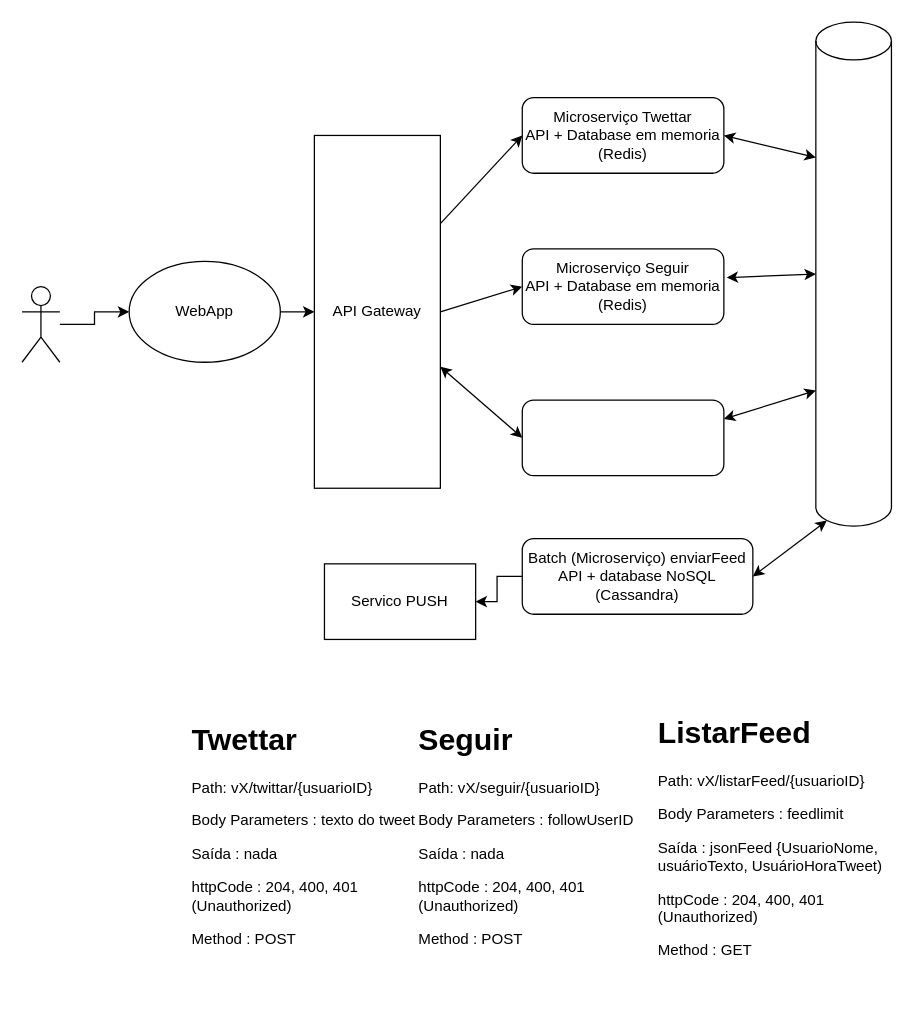
This 914x1027 diagram has some shape labels left out. The shapes that lost their labels are listed below. From the top down, each one's centre as x and y in pixels, then its label:
At [853,273]: "Event Bus (Pub/Sub Channels) - Kafka / SQS".
At [40,323]: "Actor".
At [622,437]: "Microserviço listarFeed API + Database em NoSQL (Cassandra)".
